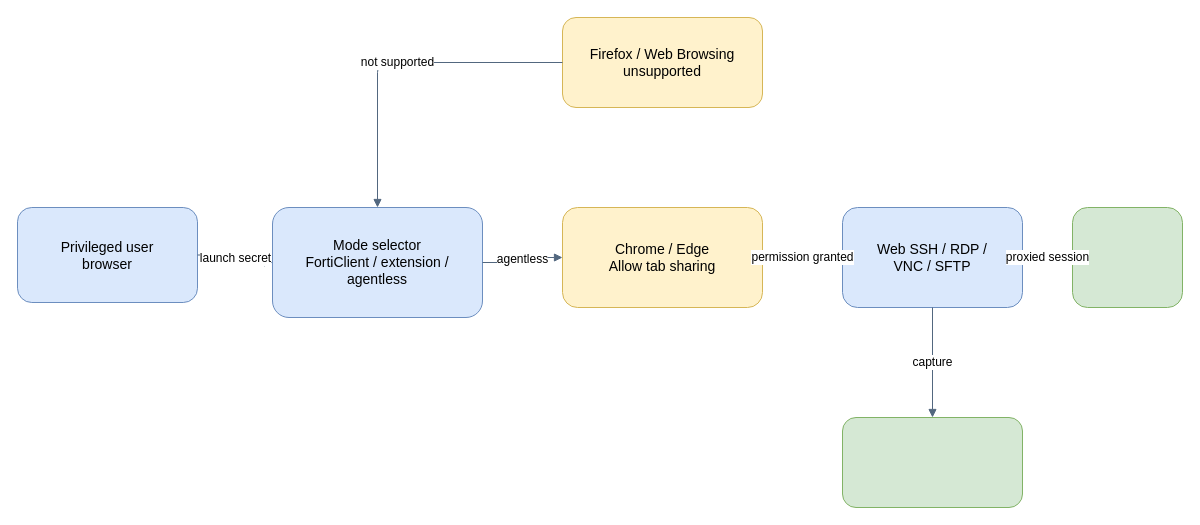
Some shapes in this 1200 by 525 pixel diagram are drawn without their labels. The centre of each missing label's shape, as x and y in pixels:
Privileged target service: the point at 1127,257
Stop sharing close + upload video: the point at 932,462
